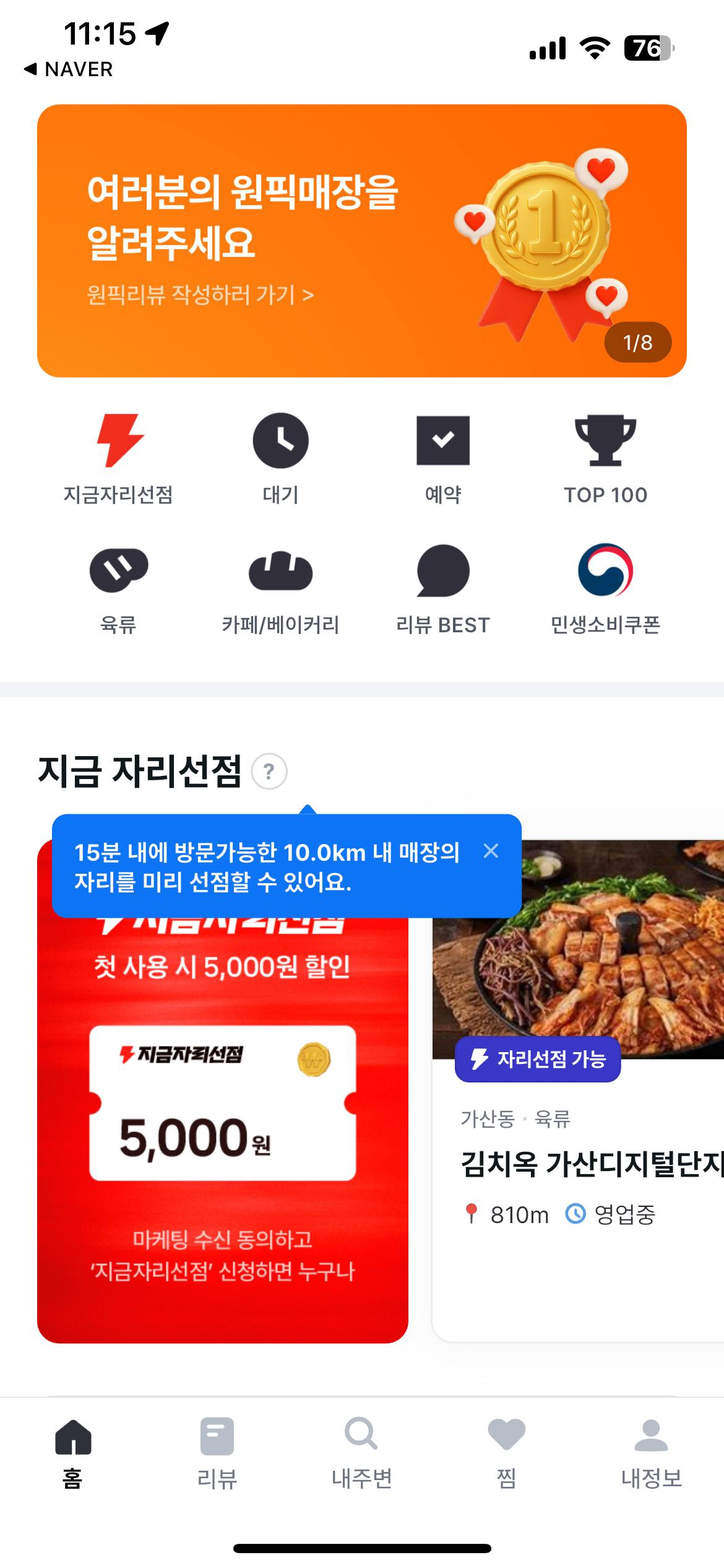button: (51, 400, 191, 525), (540, 531, 683, 652), (215, 536, 359, 650), (51, 535, 189, 650), (545, 405, 672, 523), (389, 534, 507, 642), (399, 404, 507, 515), (232, 400, 332, 518), (457, 1404, 562, 1515), (603, 1404, 702, 1517), (314, 1400, 409, 1507), (176, 1404, 266, 1503), (31, 1408, 120, 1503)
popup: (36, 842, 413, 1351), (36, 101, 688, 376), (54, 813, 520, 920)
